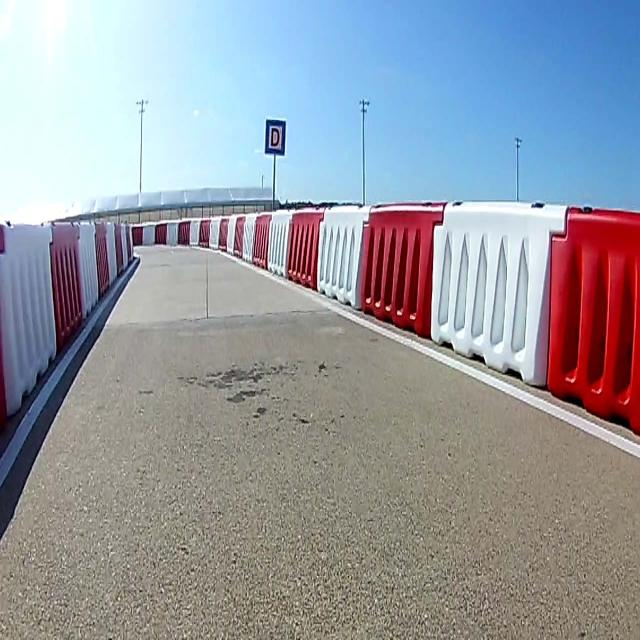durak: (265, 120, 285, 156)
